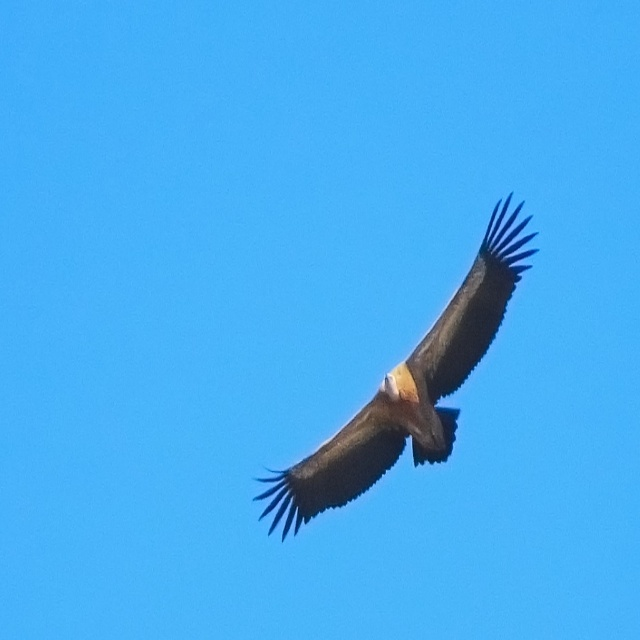Eagle: (254, 188, 544, 545)
